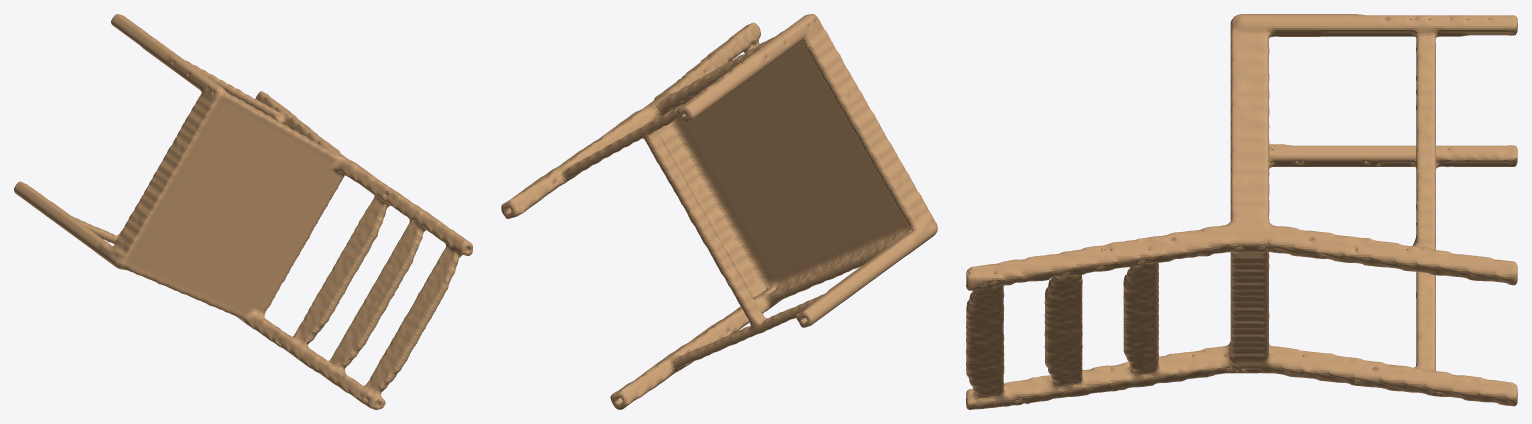
3 views of the same model, side by side, from view 1: azimuth 30°, elevation 25°; view 2: azimuth 150°, elevation 25°; view 3: azimuth 270°, elevation 25° (orthographic). The views are drawn at different scales.
Parts seen in each view (by area): view 1: woodchair.obj; view 2: woodchair.obj; view 3: woodchair.obj.
Boxes of the visible parts, <box> form: woodchair.obj: <box>14,14,472,409</box>; woodchair.obj: <box>501,14,937,409</box>; woodchair.obj: <box>966,14,1517,409</box>.
Bounding box in the file's own units: 0.636 × 0.6212 × 0.8765.
